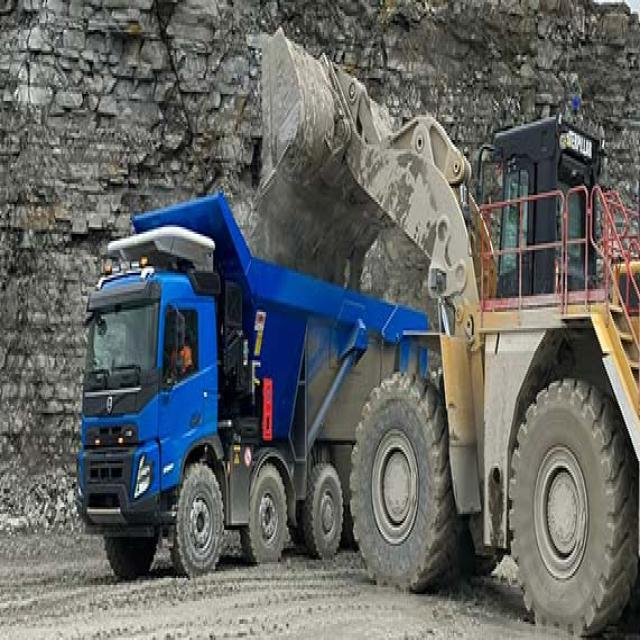buldozerpayloadergrader: (242, 11, 640, 640)
dump_truck: (77, 194, 426, 553)
